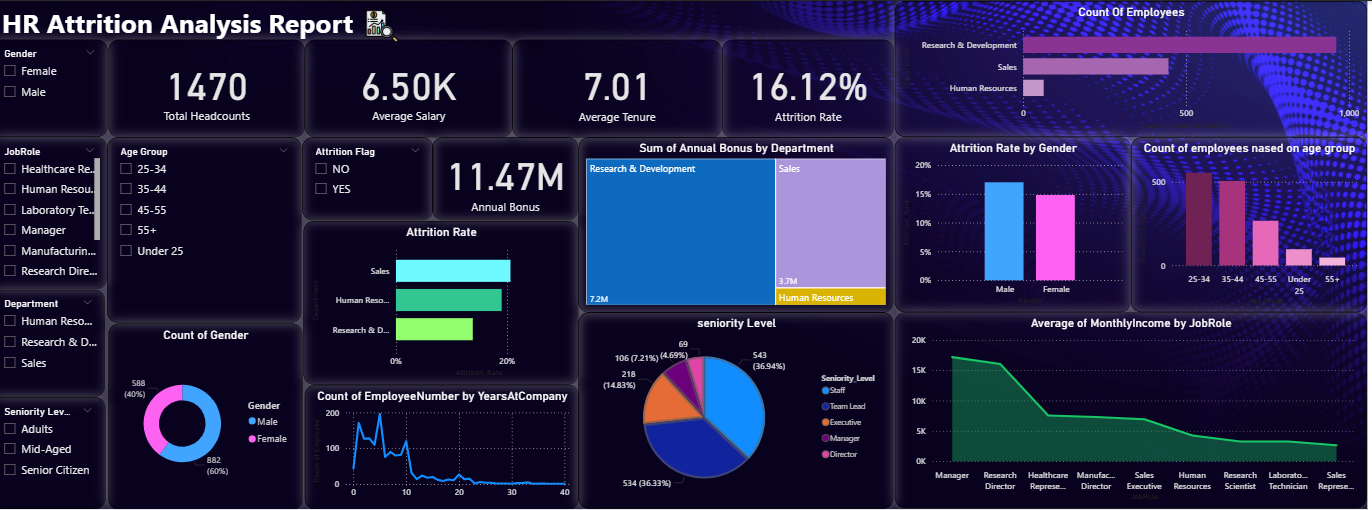

This screenshot's page, from the dashboard's own definition file:
{"tool":"powerbi","page":{"name":"Page 1","canvas":[1950,720],"ordinal":0},"visuals":[{"type":"textbox","box":[10,0,528.7,87.1],"z":0},{"type":"slicer","fields":{"Values":["HR_Data.JobRole"]},"box":[0,193.3,165,215],"z":1000},{"type":"slicer","fields":{"Values":["HR_Data.Gender"]},"box":[0,55.2,165.6,137.4],"z":2000},{"type":"slicer","fields":{"Values":["HR_Data.Department"]},"box":[0,409.8,162,152.1],"z":3000},{"type":"slicer","fields":{"Values":["HR_Data.Seniority Level"]},"box":[0,562,162,158.2],"z":4000},{"type":"card","fields":{"Values":["Count(HR_Data.EmployeeNumber)"]},"box":[165.6,55.2,278.5,138.7],"z":5000},{"type":"card","fields":{"Values":["Avg(HR_Data.MonthlyIncome)"]},"box":[444.2,55.2,294.5,138.7],"z":6000},{"type":"card","fields":{"Values":["Avg(HR_Data.YearsAtCompany)"]},"box":[739.1,55.1,297.1,139.1],"z":7000},{"type":"card","fields":{"Values":["HR_Data.Attrition_Rate"]},"box":[1036.2,55.1,243.5,139.1],"z":8000},{"type":"slicer","fields":{"Values":["HR_Data.Age Group"]},"box":[165,193.3,275,263.3],"z":9000},{"type":"slicer","fields":{"Values":["HR_Data.Attrition Flag"]},"box":[440.5,193.9,185.3,117.8],"z":10000},{"type":"card","fields":{"Values":["Sum(HR_Data.Annual Bonus)"]},"box":[625.8,193.9,207.4,117.8],"z":11000},{"type":"donutChart","title":"Count of Gender","fields":{"Y":["CountNonNull(HR_Data.Gender)"],"Category":["HR_Data.Gender"]},"box":[165.6,456.4,274.8,263.8],"z":12000},{"type":"clusteredBarChart","title":"Attrition Rate","fields":{"Y":["HR_Data.Attrition_Rate"],"Category":["HR_Data.Department"]},"box":[443.5,311.6,389.9,231.9],"z":13000},{"type":"lineChart","fields":{"Y":["Count(HR_Data.EmployeeNumber)"],"Category":["HR_Data.YearsAtCompany"]},"box":[444.2,543.6,389,176.7],"z":14000},{"type":"treemap","fields":{"Values":["Sum(HR_Data.Annual Bonus)"],"Details":["HR_Data.Department"]},"box":[833.1,192.6,446.6,249.1],"z":15000},{"type":"pieChart","title":"seniority Level ","fields":{"Category":["HR_Data.Seniority_Level"],"Y":["CountNonNull(HR_Data.Seniority_Level)"]},"box":[833.1,441.7,446.6,278.5],"z":16000},{"type":"image","box":[500.9,6.4,105.5,58.2],"z":17000},{"type":"stackedAreaChart","fields":{"Category":["HR_Data.JobRole"],"Y":["Avg(HR_Data.MonthlyIncome)"]},"box":[1281,441.4,669,277.6],"z":18000},{"type":"columnChart","title":"Attrition Rate by Gender ","fields":{"Y":["HR_Data.Attrition_Rate"],"Series":["HR_Data.Gender"],"Category":["HR_Data.Gender"]},"box":[1281,193.1,334.5,248.3],"z":19000},{"type":"barChart","title":"Count Of Employees","fields":{"Category":["HR_Data.Department"],"Y":["Count(HR_Data.EmployeeNumber)"],"Series":["HR_Data.Department"]},"box":[1281.2,0,669.6,192.8],"z":20000},{"type":"clusteredColumnChart","title":"Count of employees nased on age group","fields":{"Category":["HR_Data.Age Group"],"Y":["Count(HR_Data.EmployeeNumber)"]},"box":[1615.5,193.1,334.5,248.3],"z":21000}]}

Visuals, with their boxes in screenshot pixels (x1, y1, x2, y2), scaled from the page's 1950x720 canvas onto the 1372x510 screenshot:
textbox: region(7, 0, 379, 62)
slicer - HR_Data.JobRole: region(0, 137, 116, 289)
slicer - HR_Data.Gender: region(0, 39, 117, 136)
slicer - HR_Data.Department: region(0, 290, 114, 398)
slicer - HR_Data.Seniority Level: region(0, 398, 114, 509)
card - Count(HR_Data.EmployeeNumber): region(117, 39, 312, 137)
card - Avg(HR_Data.MonthlyIncome): region(313, 39, 520, 137)
card - Avg(HR_Data.YearsAtCompany): region(520, 39, 729, 138)
card - HR_Data.Attrition_Rate: region(729, 39, 900, 138)
slicer - HR_Data.Age Group: region(116, 137, 310, 323)
slicer - HR_Data.Attrition Flag: region(310, 137, 440, 221)
card - Sum(HR_Data.Annual Bonus): region(440, 137, 586, 221)
"Count of Gender" donutChart: region(117, 323, 310, 509)
"Attrition Rate" clusteredBarChart: region(312, 221, 586, 385)
lineChart - Count(HR_Data.EmployeeNumber) x HR_Data.YearsAtCompany: region(313, 385, 586, 509)
treemap - Sum(HR_Data.Annual Bonus) x HR_Data.Department: region(586, 136, 900, 313)
"seniority Level " pieChart: region(586, 313, 900, 509)
image: region(352, 5, 427, 46)
stackedAreaChart - HR_Data.JobRole x Avg(HR_Data.MonthlyIncome): region(901, 313, 1371, 509)
"Attrition Rate by Gender " columnChart: region(901, 137, 1137, 313)
"Count Of Employees" barChart: region(901, 0, 1371, 137)
"Count of employees nased on age group" clusteredColumnChart: region(1137, 137, 1371, 313)
